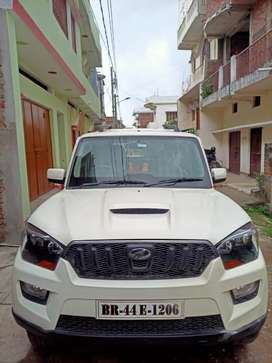BR44E1206: (99, 301, 181, 316)
